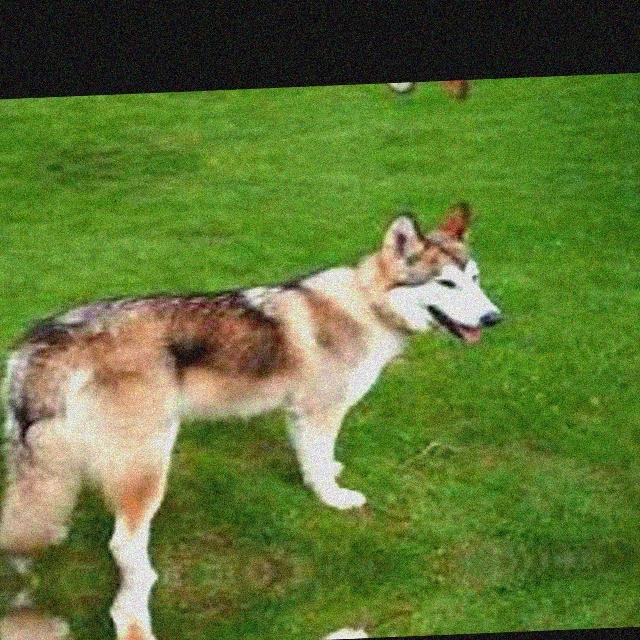dog: (0, 202, 515, 575), (0, 570, 516, 640), (0, 78, 509, 116)
